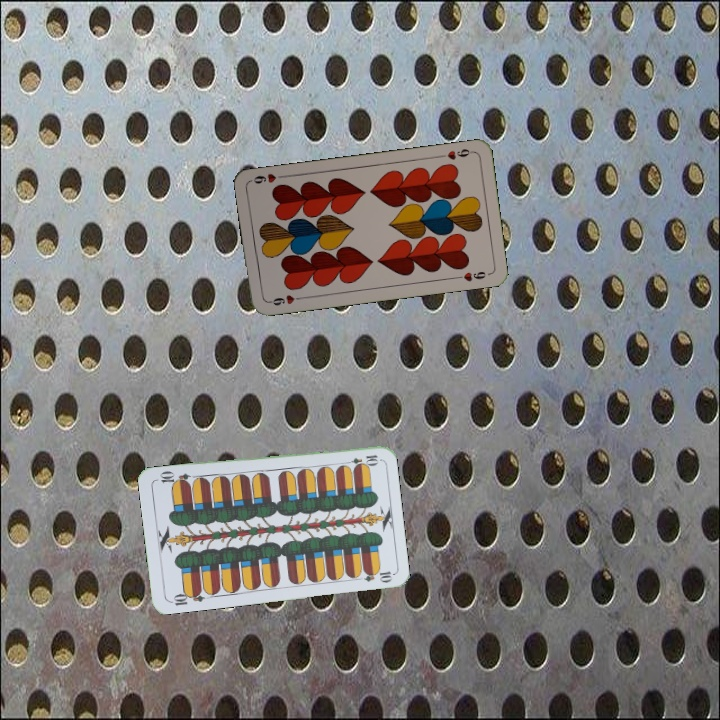E10: (166, 586, 207, 608), (340, 451, 381, 468)
H9: (435, 145, 476, 162), (264, 291, 305, 308)
